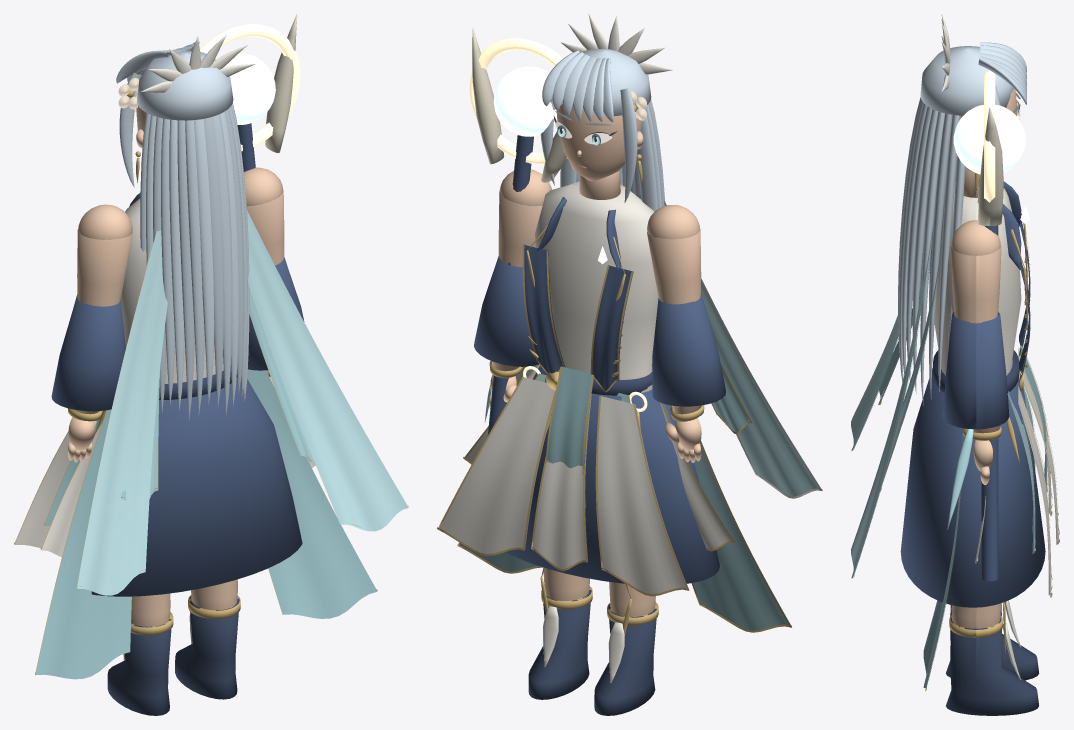
The model's file is character_11.glb.
The picture shows the model from 3 angles, left to right: view 1: azimuth 30°, elevation 25°; view 2: azimuth 150°, elevation 25°; view 3: azimuth 270°, elevation 25°; orthographic projection. The views are drawn at different scales.
Parts seen in each view (by area): view 1: _MeshInstance3D_3295, _MeshInstance3D_3364, _MeshInstance3D_3327, _MeshInstance3D_3329, _MeshInstance3D_3302, _MeshInstance3D_3365, _MeshInstance3D_3300, _MeshInstance3D_3366, _MeshInstance3D_3336, _MeshInstance3D_3335, _MeshInstance3D_3340, _MeshInstance3D_3332 (+14 smaller); view 2: _MeshInstance3D_3291, _MeshInstance3D_3295, _MeshInstance3D_3296, _MeshInstance3D_3298, _MeshInstance3D_3336, _MeshInstance3D_3364, _MeshInstance3D_3327, _MeshInstance3D_3300, _MeshInstance3D_3344, _MeshInstance3D_3335, _MeshInstance3D_3317, _MeshInstance3D_3332 (+29 smaller); view 3: _MeshInstance3D_3295, _MeshInstance3D_3364, _MeshInstance3D_3344, _MeshInstance3D_3340, _MeshInstance3D_3343, _MeshInstance3D_3365, _MeshInstance3D_3366, _MeshInstance3D_3291, _MeshInstance3D_3346, _MeshInstance3D_3329, _MeshInstance3D_3347, _MeshInstance3D_3327 (+19 smaller).
Boxes of the visible parts, box(x1,y1,x2,y2) form: _MeshInstance3D_3295: box(91, 193, 302, 596); _MeshInstance3D_3364: box(116, 41, 249, 410); _MeshInstance3D_3327: box(77, 230, 167, 595); _MeshInstance3D_3329: box(247, 210, 408, 531); _MeshInstance3D_3302: box(247, 369, 377, 618); _MeshInstance3D_3365: box(140, 106, 247, 415); _MeshInstance3D_3300: box(35, 409, 131, 679); _MeshInstance3D_3366: box(153, 103, 244, 420); _MeshInstance3D_3336: box(51, 294, 125, 411); _MeshInstance3D_3335: box(68, 204, 132, 462); _MeshInstance3D_3340: box(175, 597, 239, 699); _MeshInstance3D_3332: box(107, 619, 171, 715); _MeshInstance3D_3291: box(535, 181, 658, 392); _MeshInstance3D_3295: box(506, 197, 719, 583); _MeshInstance3D_3296: box(597, 396, 689, 594); _MeshInstance3D_3298: box(440, 377, 554, 553); _MeshInstance3D_3336: box(652, 292, 725, 406); _MeshInstance3D_3364: box(540, 49, 661, 208); _MeshInstance3D_3327: box(664, 201, 822, 496); _MeshInstance3D_3300: box(670, 405, 790, 630); _MeshInstance3D_3344: box(474, 135, 538, 435); _MeshInstance3D_3335: box(647, 205, 701, 462); _MeshInstance3D_3317: box(533, 394, 591, 568); _MeshInstance3D_3332: box(594, 605, 656, 715); _MeshInstance3D_3295: box(900, 181, 1045, 607); _MeshInstance3D_3364: box(901, 42, 1026, 405); _MeshInstance3D_3344: box(943, 225, 1009, 581); _MeshInstance3D_3340: box(946, 617, 1038, 715); _MeshInstance3D_3343: box(951, 220, 1001, 484); _MeshInstance3D_3365: box(899, 100, 959, 393); _MeshInstance3D_3366: box(898, 97, 952, 399); _MeshInstance3D_3291: box(934, 182, 1021, 375); _MeshInstance3D_3346: box(953, 104, 1025, 174); _MeshInstance3D_3329: box(851, 220, 933, 578); _MeshInstance3D_3347: box(977, 107, 1003, 226); _MeshInstance3D_3327: box(851, 315, 898, 450).
Bounding box in the file's own units: 1.3 × 2.44 × 0.6917.
